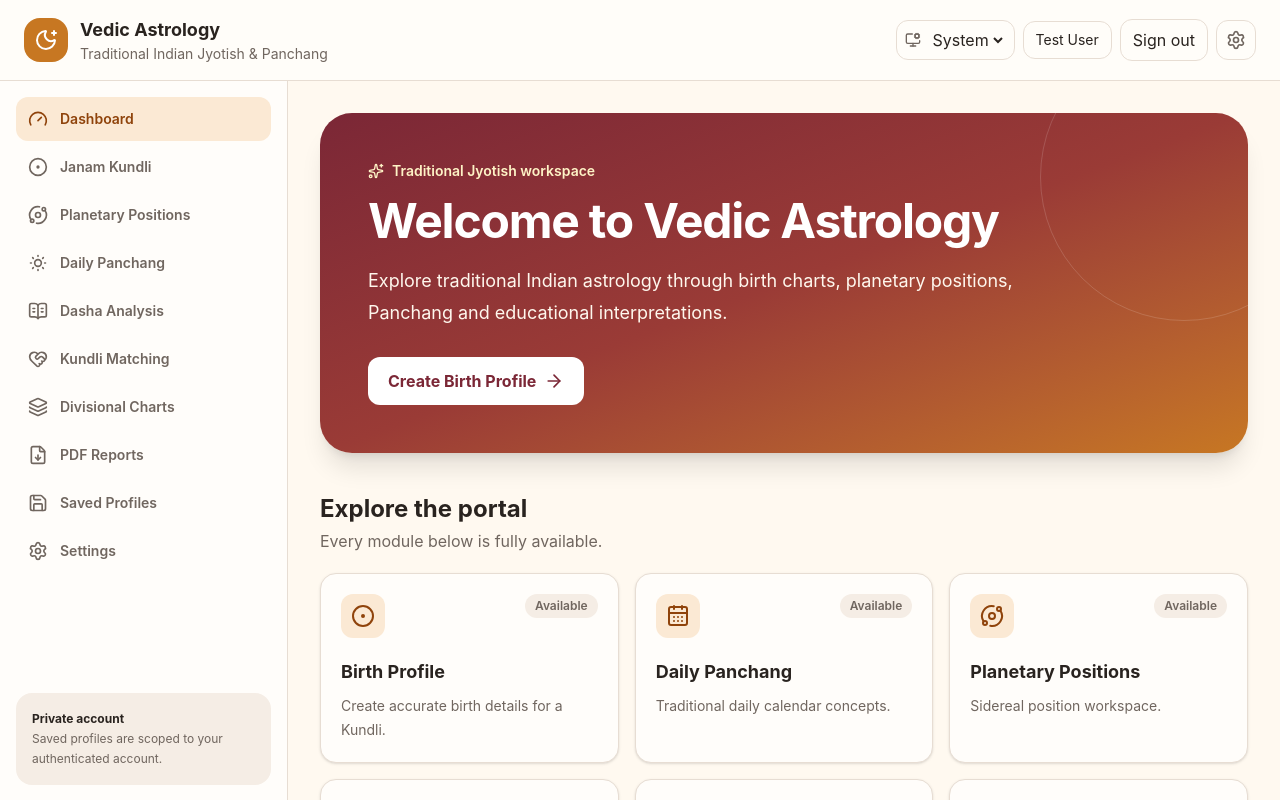
Test: Step 4 portal experience › navigates to the refined Kundli form and highlights the active route
Click the link "Create Birth Profile". click: (476, 381)
box: [368,357,584,405]
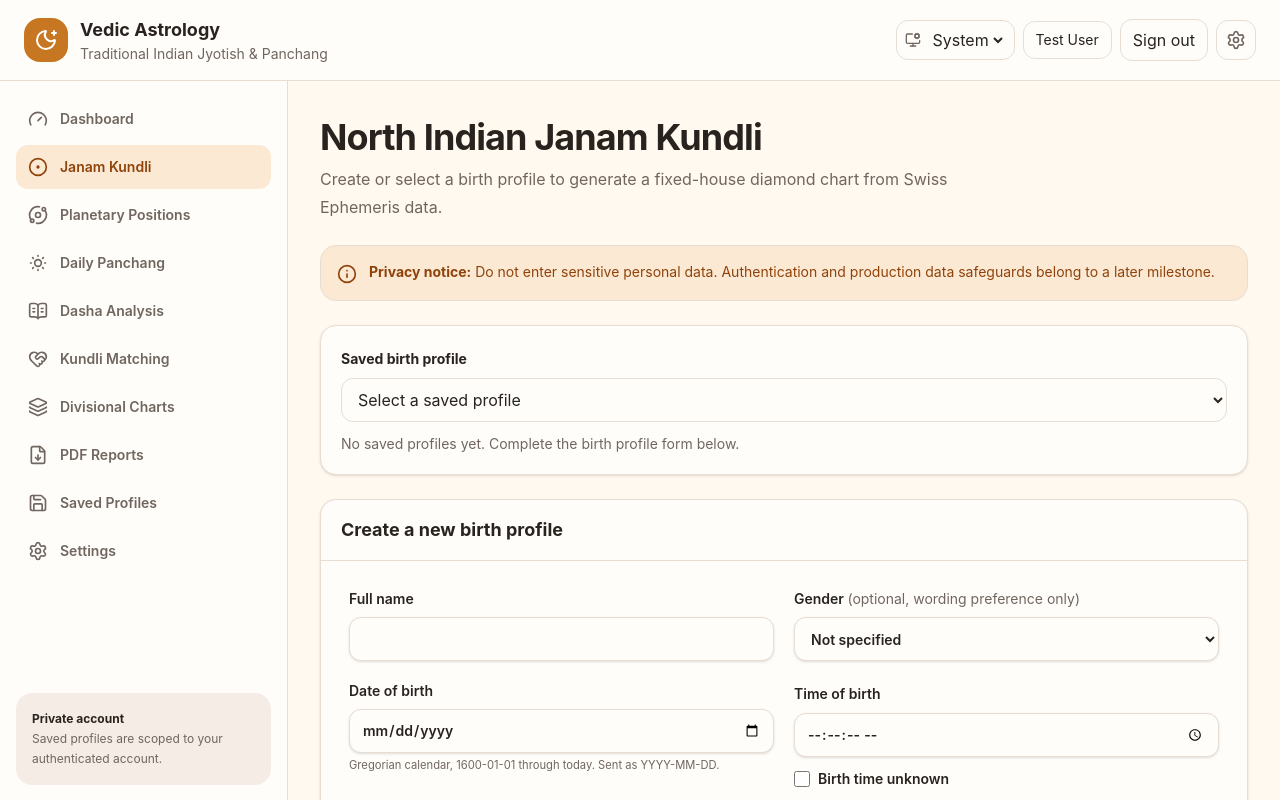
Now the heading "North Indian Janam Kundli" is shown, box [320,115,762,159]
Now the field labelled "Full name" is shown, box [349,617,774,661]
